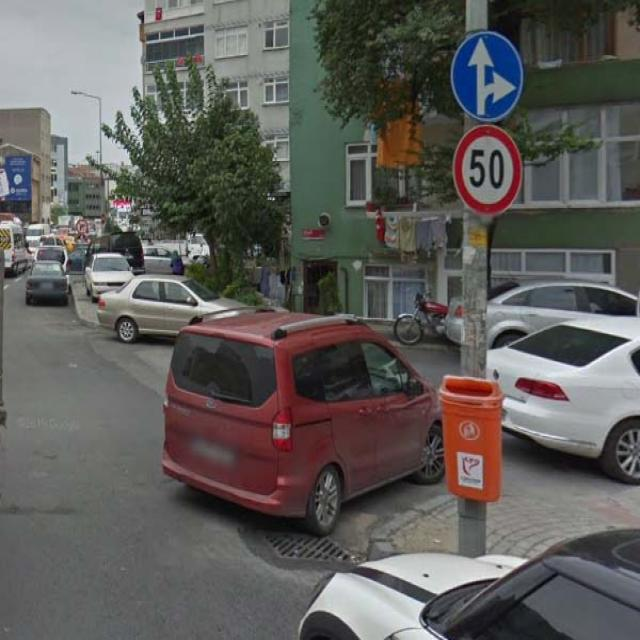ilerisag: (450, 31, 524, 122)
